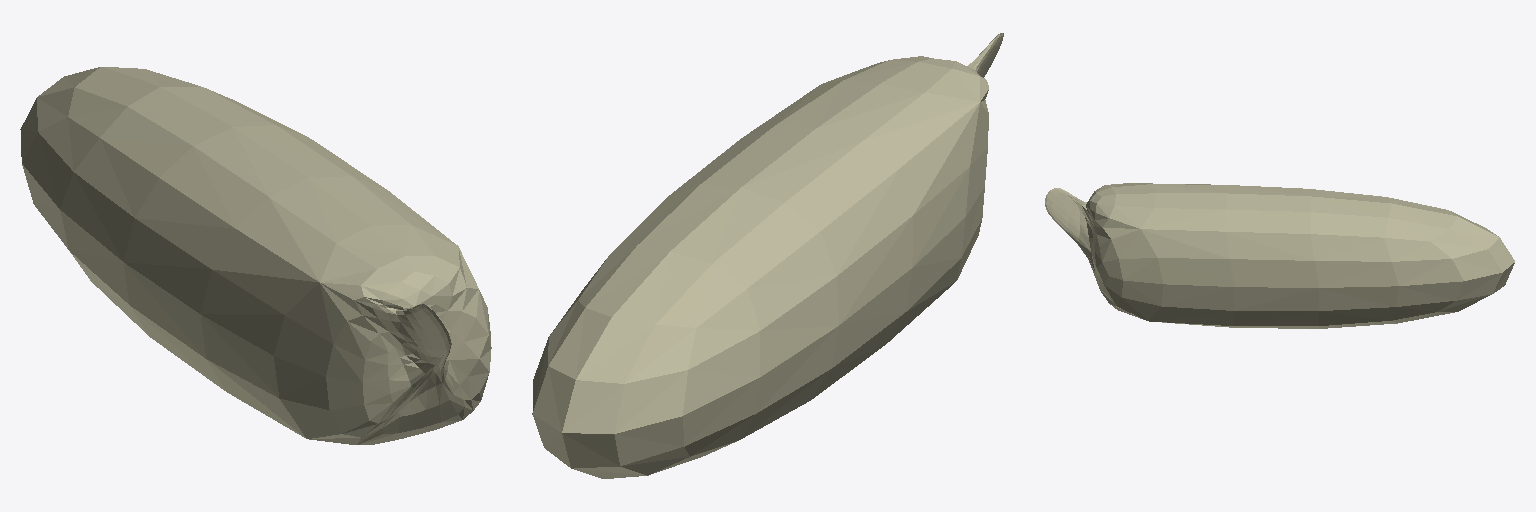
The robot description file, URDF, robot "blob575":

<robot name="blob575">
  <link name="random_obj_575">
    <contact>
      <lateral_friction value="1.0"/>
      <rolling_friction value="0.0"/>
      <inertia_scaling value="3.0"/>
      <contact_cfm value="0.0"/>
      <contact_erp value="1.0"/>
    </contact>
    <inertial>
      <origin rpy="0 0 0" xyz="0 0 0"/>
      <mass value="0.0581"/>
      <inertia ixx="1" ixy="0" ixz="0" iyy="1" iyz="0" izz="0"/>
    </inertial>
    <visual>
      <origin rpy="0 0 0" xyz="0 0 0"/>
      <geometry>
        <mesh filename="575.obj" scale="0.0073 0.0073 0.0073"/>
      </geometry>
      <material name="blockmat">
        <color rgba="0.74 0.73 0.63 1"/>
      </material>
    </visual>
    <collision>
      <origin rpy="0 0 0" xyz="0 0 0"/>
      <geometry>
        <mesh filename="575_coll.obj" scale="0.0073 0.0073 0.0073"/>
      </geometry>
    </collision>
  </link>
</robot>

--- What the picture shows (computed from the rendered views, not written in the file) ---
Views: 3 orthographic renders of the robot side by side, from view 1: azimuth 30°, elevation 25°; view 2: azimuth 150°, elevation 25°; view 3: azimuth 270°, elevation 25°.
Model blob575 with 1 links and 0 joints (none), rooted at random_obj_575, posed every joint at zero.
Visible links, largest first — view 1: random_obj_575; view 2: random_obj_575; view 3: random_obj_575.
Boxes of the visible links, <box> form: random_obj_575: <box>20,67,491,444</box>; random_obj_575: <box>532,33,1003,478</box>; random_obj_575: <box>1045,183,1514,328</box>.
Size in the robot's own frame: 0.0268 by 0.0931 by 0.0278 metres.
Meshes: 1 distinct files referenced, 1 mesh visuals loaded (1 OBJ).
